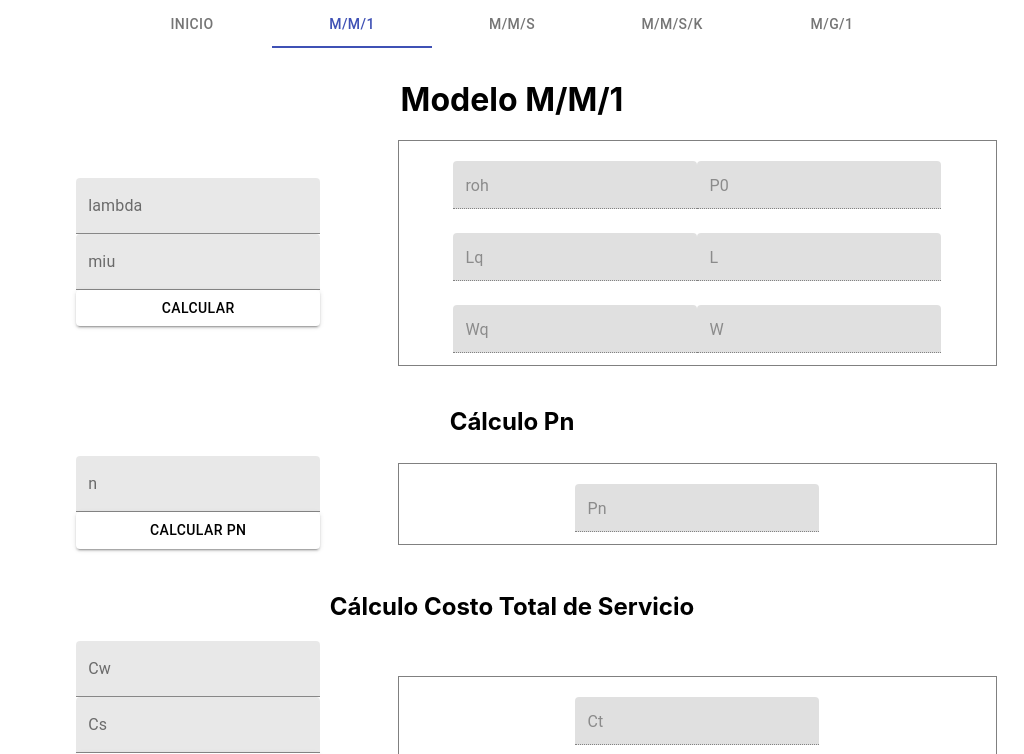
it: Test input validation › lambda larger than miu error
Type "2" into the number field labelled "lambda" at (198, 206), box [76, 178, 320, 234]
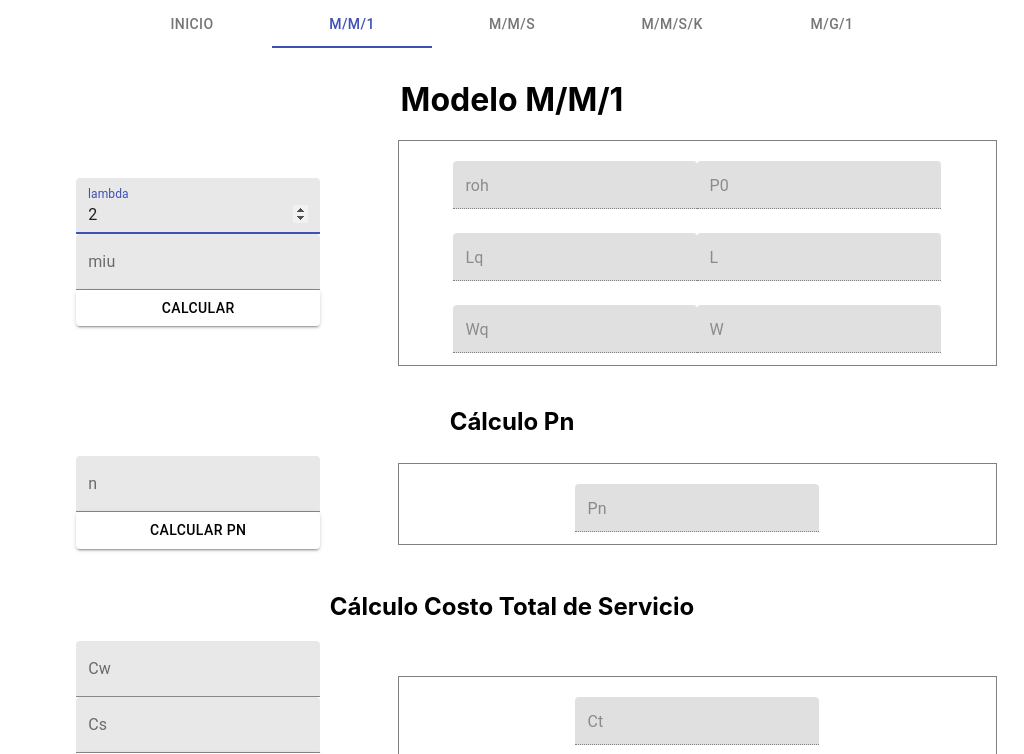
Type "1" into the number field labelled "miu" at (198, 262), box [76, 234, 320, 290]
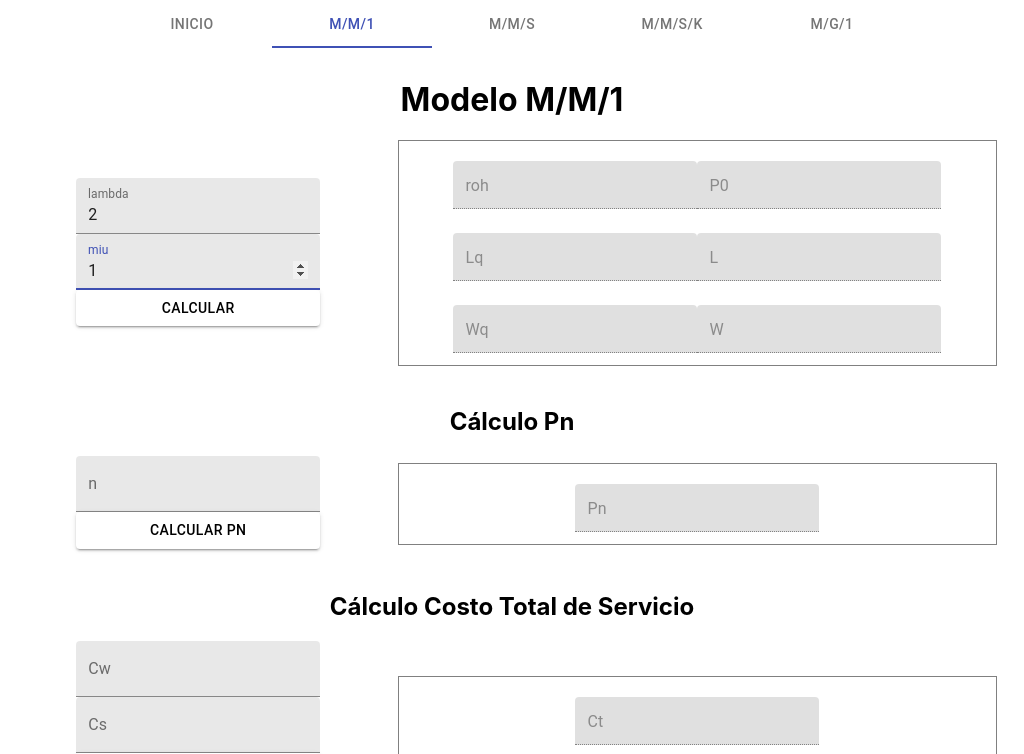
Click the button "Calcular" at (198, 308), box [76, 290, 320, 326]
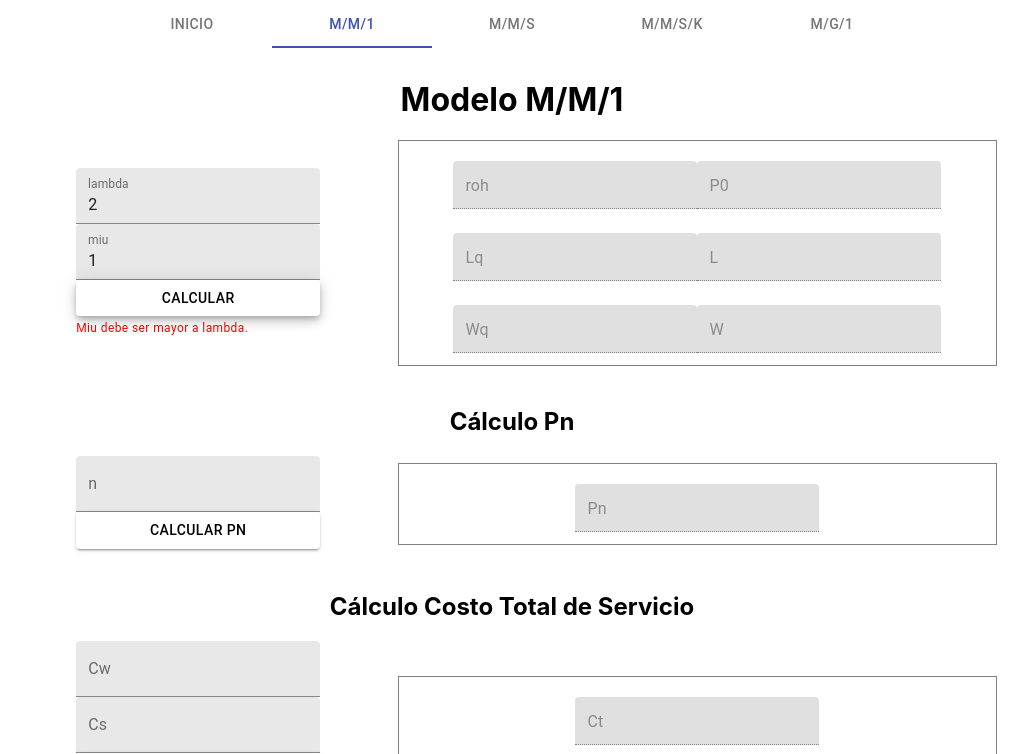
Result: the text "Miu debe ser mayor a lambda." is shown at [76, 321, 248, 335]
